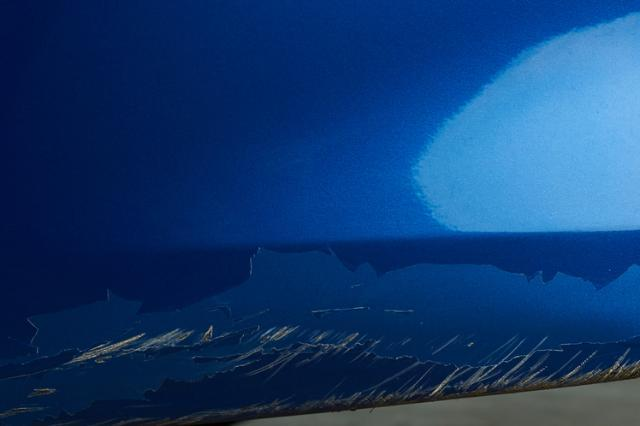Door: (0, 162, 640, 426)
